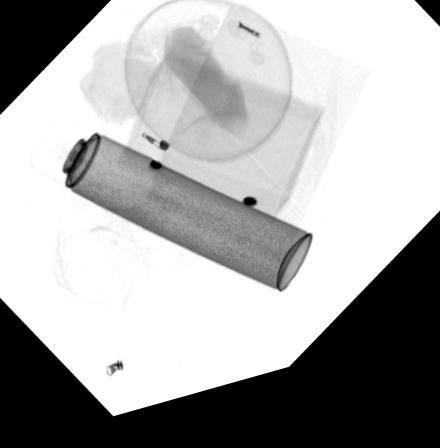Sprayer: (27, 121, 312, 308)
